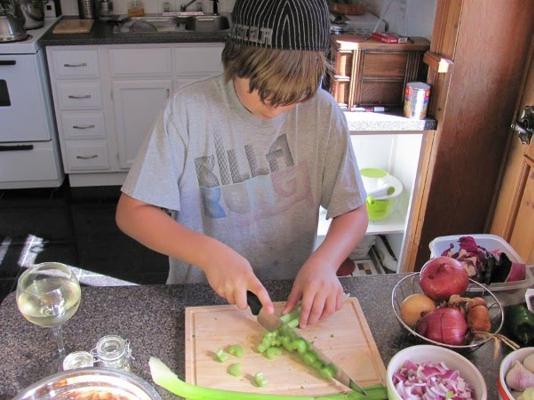person: (110, 1, 370, 330)
